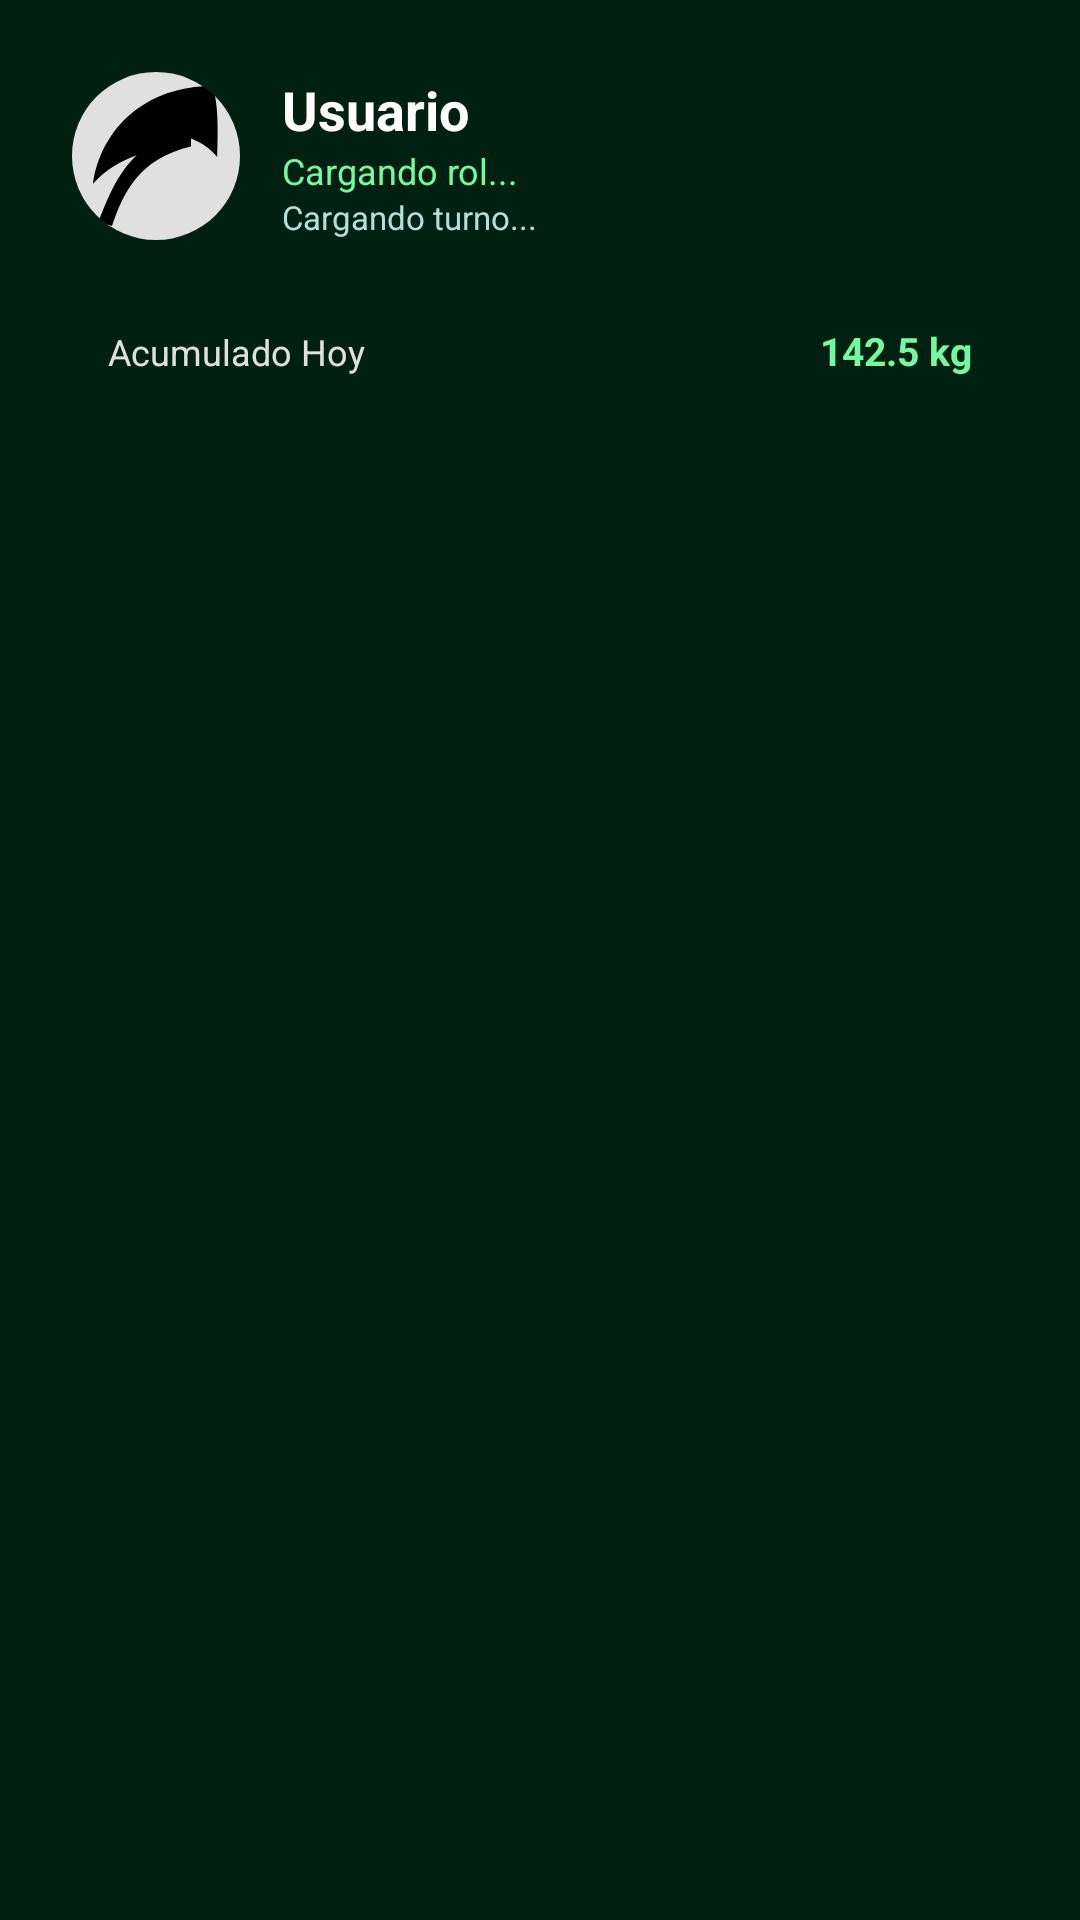

Screen size 1080 × 1920. Icon name, then its box in pixels as bbox=[x1, y1, x2, y2]:
eco leaf: bbox=[72, 72, 240, 240]
